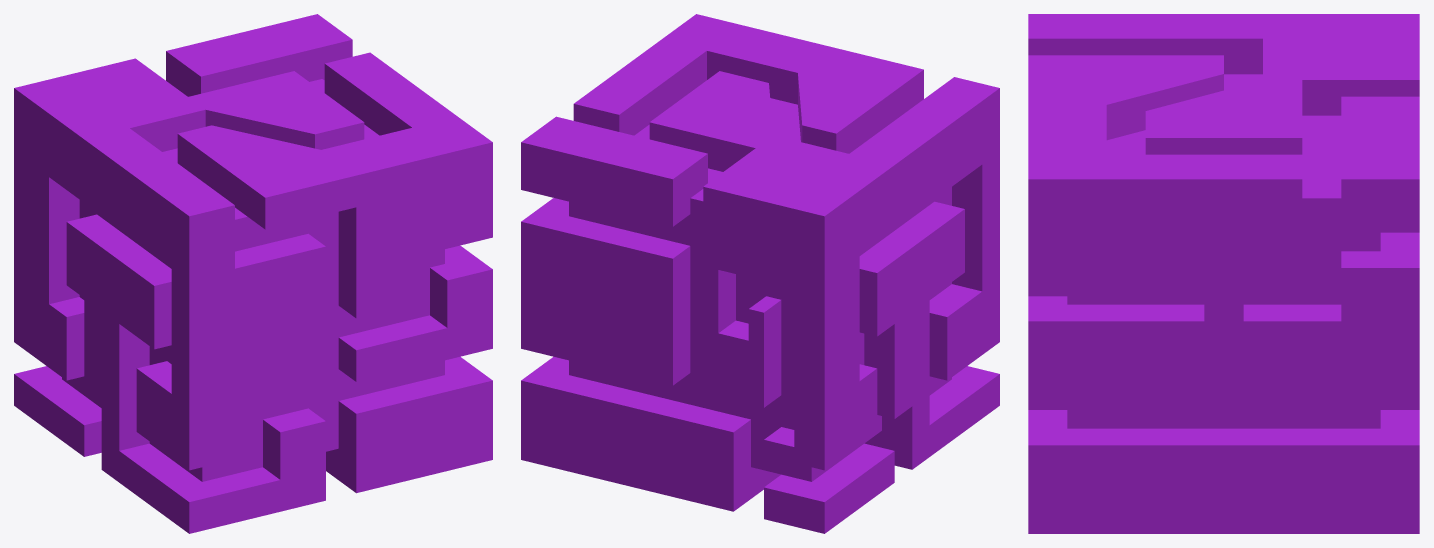
The model's file is Cubo.glb.
3 renders of one model, left to right at view 1: azimuth 30°, elevation 25°; view 2: azimuth 150°, elevation 25°; view 3: azimuth 270°, elevation 25°, orthographic. The views are drawn at different scales.
Visible parts, largest first — view 1: Base; view 2: Base; view 3: Base.
Part boxes in pixels (x1,y1,x2,y2): Base: [14, 14, 492, 533]; Base: [521, 14, 999, 533]; Base: [1028, 14, 1419, 533].
Bounding box in the file's own units: 20 × 20 × 20.
